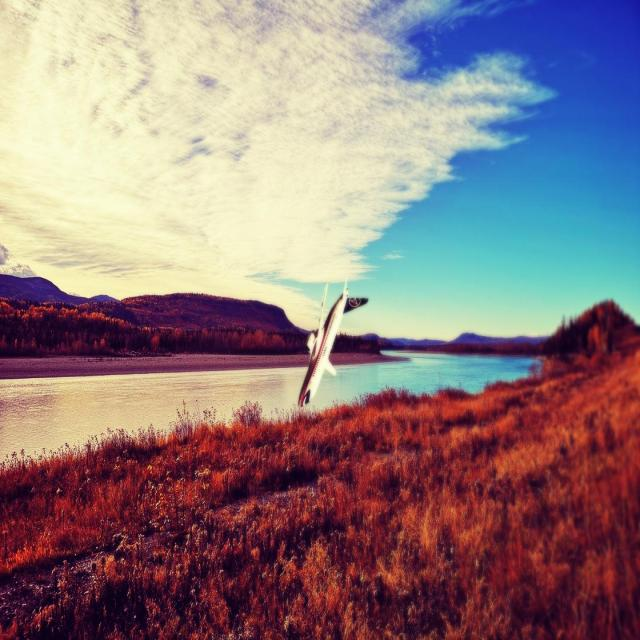airplane: (294, 279, 368, 407)
